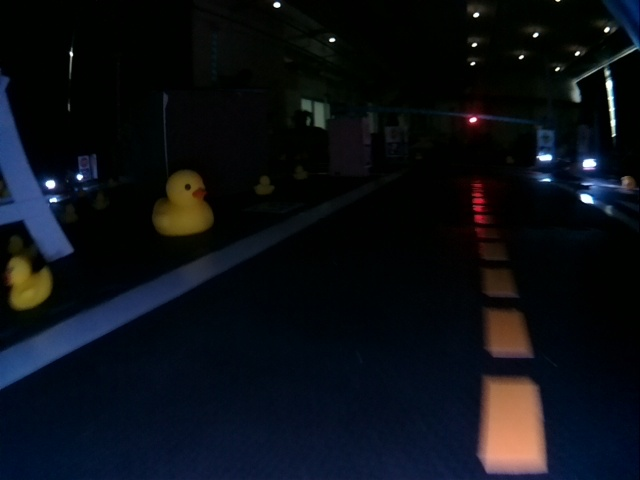Duckie: (153, 172, 213, 232), (5, 257, 52, 307), (255, 179, 271, 194), (297, 169, 306, 177)
Traffic light: (470, 114, 479, 123)
